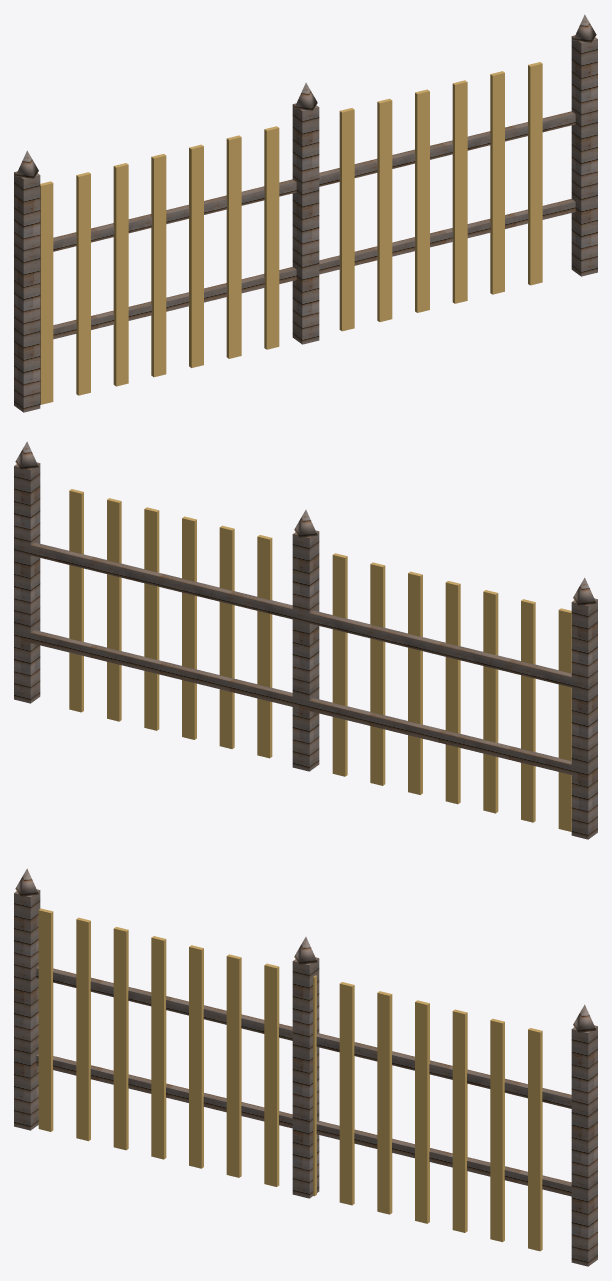
Rendered from pagar-bambu.glb.
The picture shows the model from 3 angles, top to bottom: view 1: azimuth 30°, elevation 25°; view 2: azimuth 150°, elevation 25°; view 3: azimuth 330°, elevation 25°; orthographic projection.
Parts seen in each view (by area): view 1: Bilah_Bambu, Rel_Tiang_Jati; view 2: Bilah_Bambu, Rel_Tiang_Jati; view 3: Bilah_Bambu, Rel_Tiang_Jati.
Part boxes in pixels (<box>): Bilah_Bambu: <box>40,62,542,404</box>; Rel_Tiang_Jati: <box>14,14,597,412</box>; Bilah_Bambu: <box>69,489,571,831</box>; Rel_Tiang_Jati: <box>14,441,597,839</box>; Bilah_Bambu: <box>38,908,542,1251</box>; Rel_Tiang_Jati: <box>14,868,597,1266</box>.
Size of the model in its own units: 4.17 by 1.76 by 0.17.
2 materials, 1 textured.
